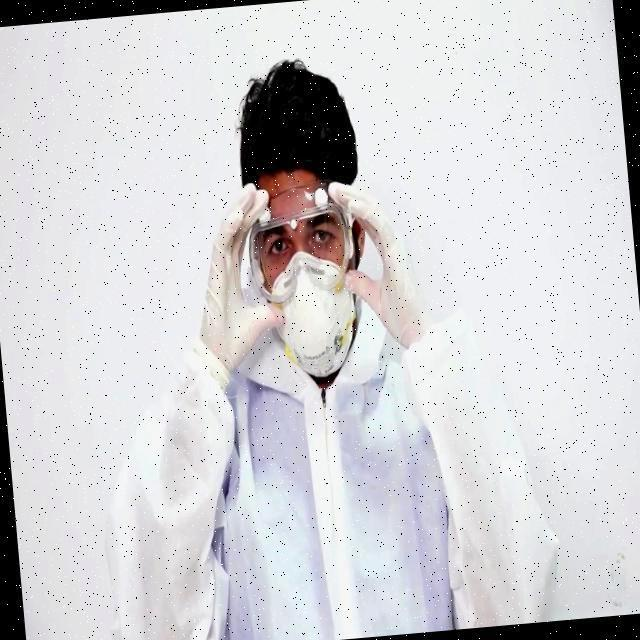apron: (330, 180, 428, 343), (206, 182, 278, 358)
